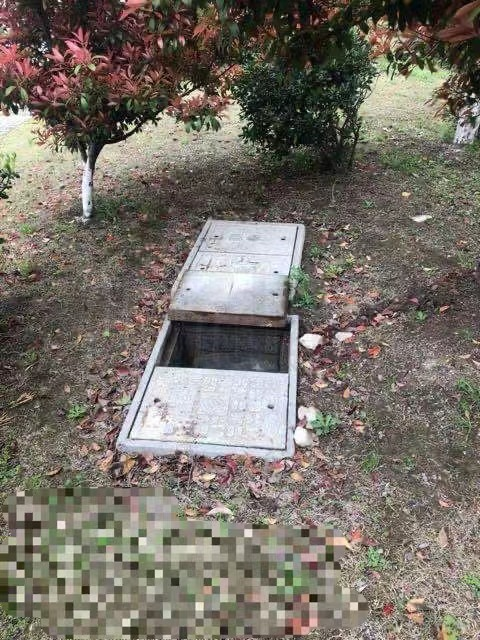well: (113, 219, 299, 457)
